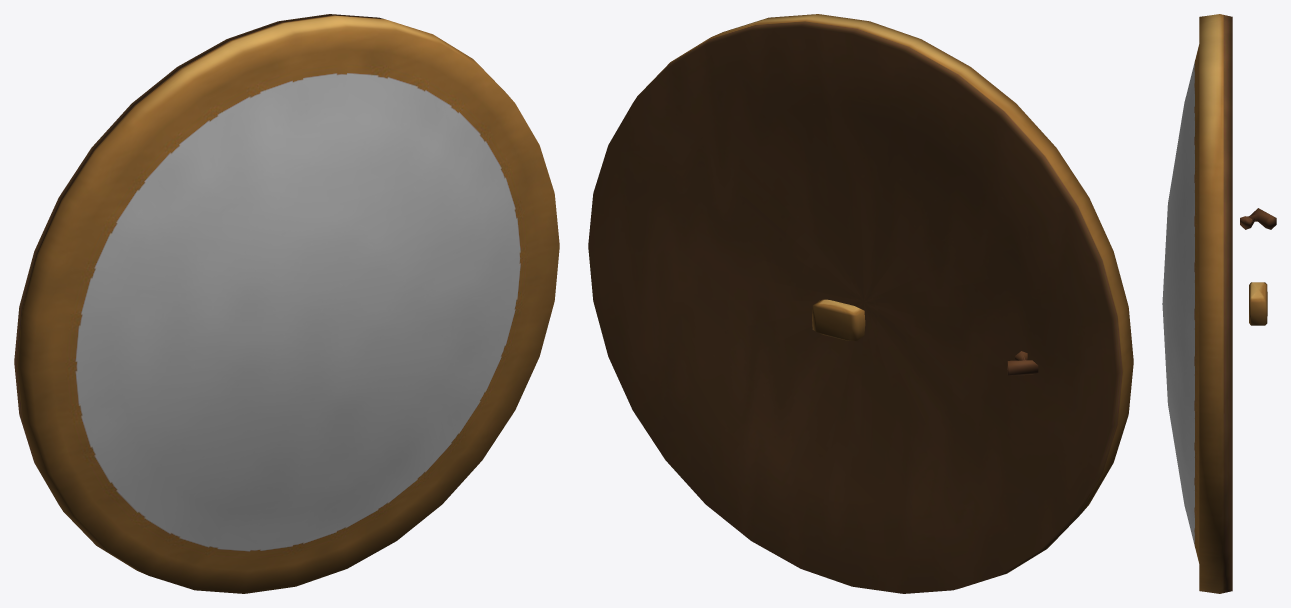
The model's file is bouclier-hoplon.glb.
3 renders of one model, left to right at view 1: azimuth 30°, elevation 25°; view 2: azimuth 150°, elevation 25°; view 3: azimuth 270°, elevation 25°, orthographic. The views are drawn at different scales.
Visible parts, largest first — view 1: bouclier-hoplon; view 2: bouclier-hoplon; view 3: bouclier-hoplon.
Boxes of the visible parts, left/top/right/bottom form: bouclier-hoplon: left=14, top=14, right=559, bottom=593; bouclier-hoplon: left=588, top=14, right=1133, bottom=593; bouclier-hoplon: left=1162, top=14, right=1276, bottom=593.
Size of the model in its own units: 0.909 by 0.909 by 0.1786.
1 material, 1 textured.
